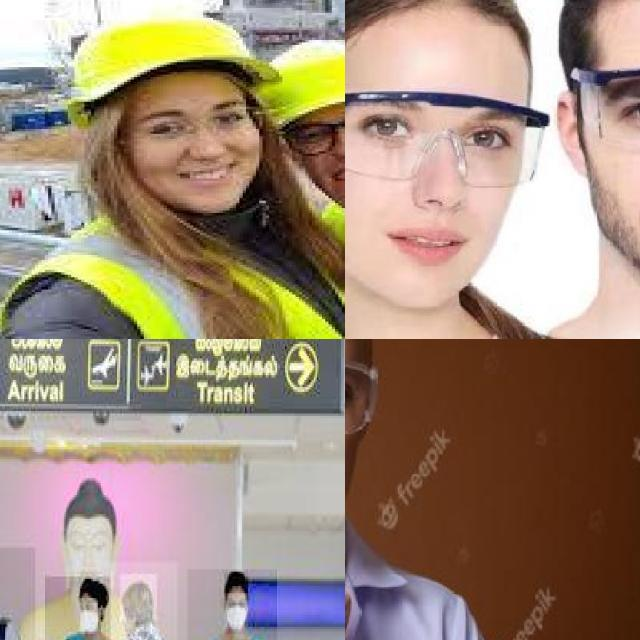face_mask: (226, 593, 248, 629), (80, 598, 98, 632)
face_nomask: (345, 91, 518, 282), (125, 99, 261, 206), (287, 110, 345, 198), (120, 603, 141, 639)
glasses: (345, 91, 550, 189), (571, 59, 640, 153), (278, 103, 345, 167)
head_helmet: (64, 13, 291, 101), (253, 38, 345, 127)
head_nohelmet: (345, 0, 524, 43), (120, 574, 157, 622), (79, 572, 101, 603), (224, 572, 248, 593)
person: (16, 9, 324, 339), (345, 339, 530, 640), (245, 12, 345, 339), (105, 562, 179, 640)
vest: (34, 209, 345, 339)
